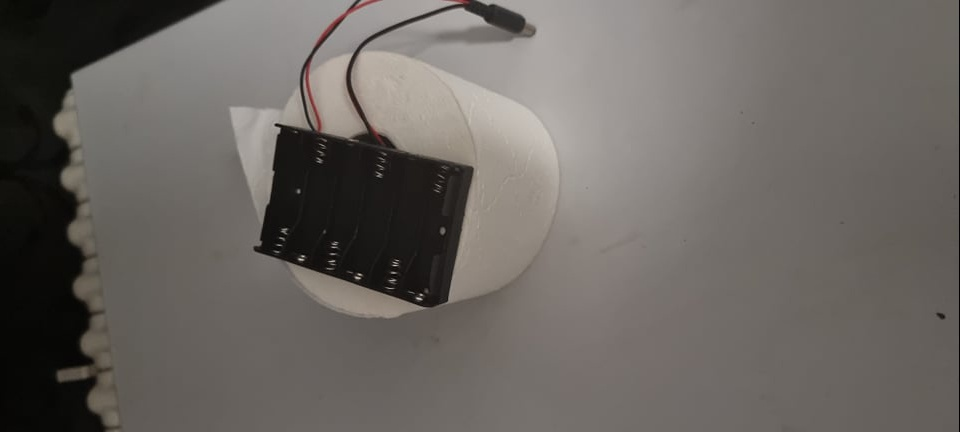BATTERY BOX: (254, 120, 479, 316)
